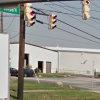Traffic light: (23, 5, 62, 35)
